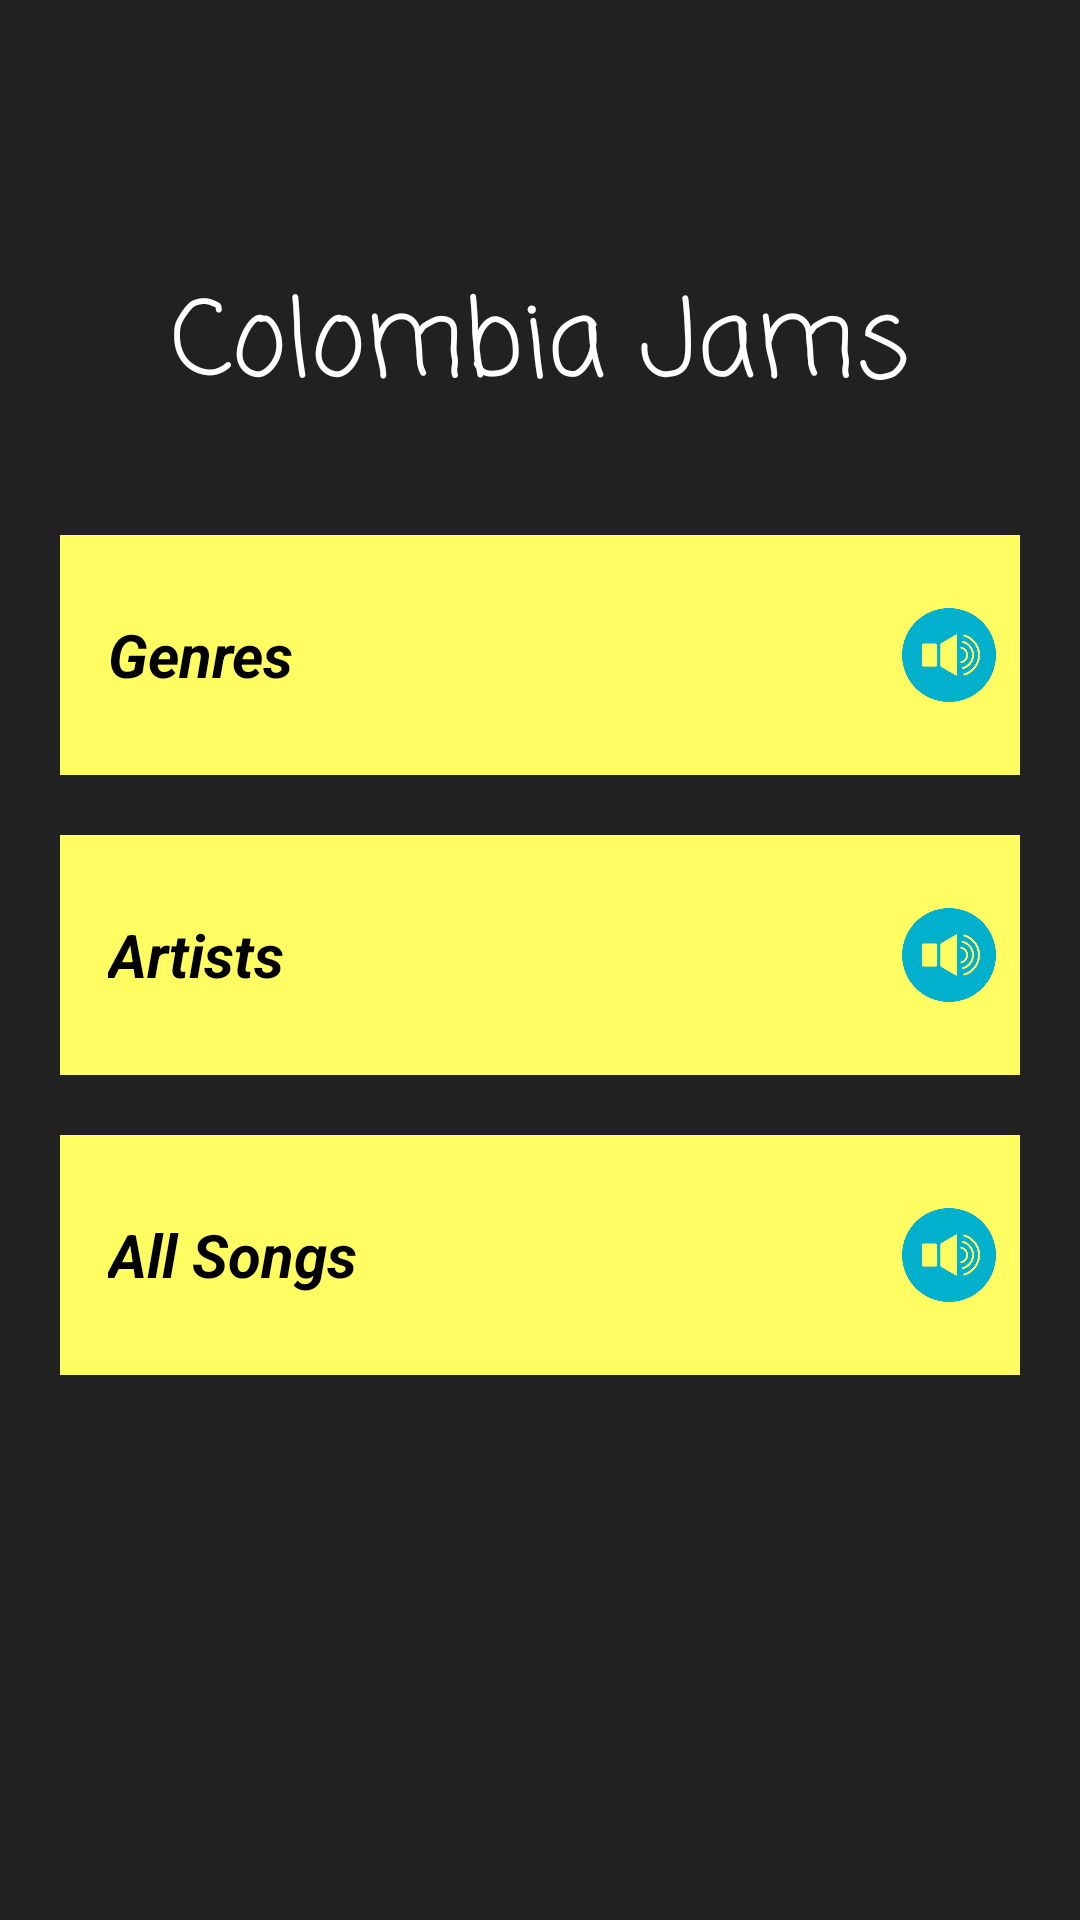

Icon bounding boxes for this 1080w x 1920h phone screenshot, format (x1, y1, x2, y2):
Play Song: (902, 608, 996, 702), (902, 908, 996, 1002), (902, 1208, 996, 1302)
